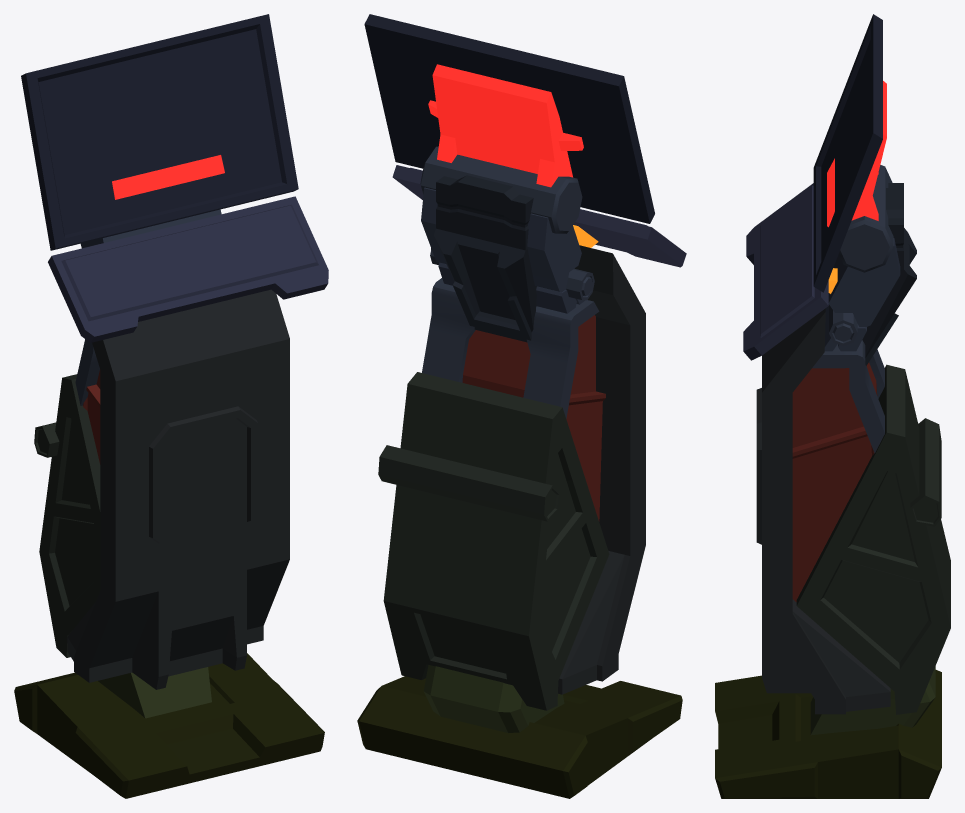
Rendered from console.glb.
3 views of the same model, side by side, from view 1: azimuth 30°, elevation 25°; view 2: azimuth 150°, elevation 25°; view 3: azimuth 270°, elevation 25° (orthographic). The views are drawn at different scales.
Visible parts, largest first — view 1: BODY; view 2: BODY; view 3: BODY.
Boxes of the visible parts, x1,y1,x2,y2 form: BODY: (14, 14, 328, 798); BODY: (357, 14, 686, 798); BODY: (715, 14, 950, 798).
Size of the model in its own units: 0.3775 by 1 by 0.3154.
